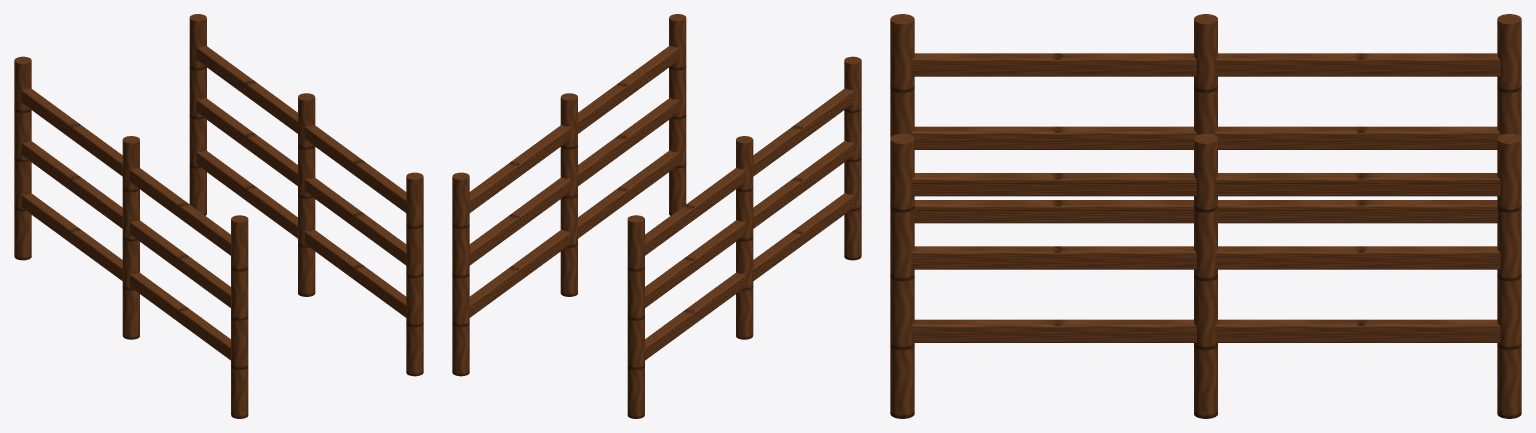
Rendered from creature-husbandry-and-transport-handling-race-a53e352b__23981.glb.
3 views of the same model, side by side, from view 1: azimuth 30°, elevation 25°; view 2: azimuth 150°, elevation 25°; view 3: azimuth 270°, elevation 25° (orthographic). The views are drawn at different scales.
Visible parts, largest first — view 1: handling-race; view 2: handling-race; view 3: handling-race.
Boxes of the visible parts, x1=… form: handling-race: x1=14, y1=14, x2=423, y2=418; handling-race: x1=452, y1=14, x2=861, y2=418; handling-race: x1=890, y1=14, x2=1521, y2=418.
Bounding box in the file's own units: 1.52 × 1.5 × 3.12.
Materials: 1 (1 with a texture image).
